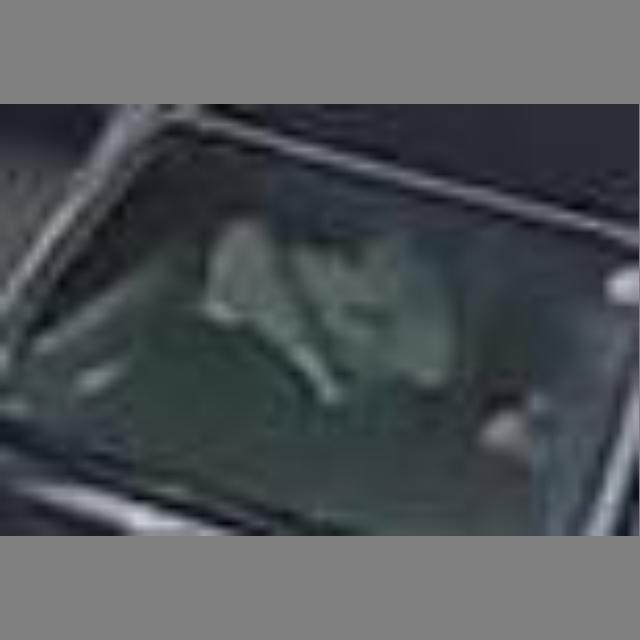pakai: (183, 187, 474, 412)
